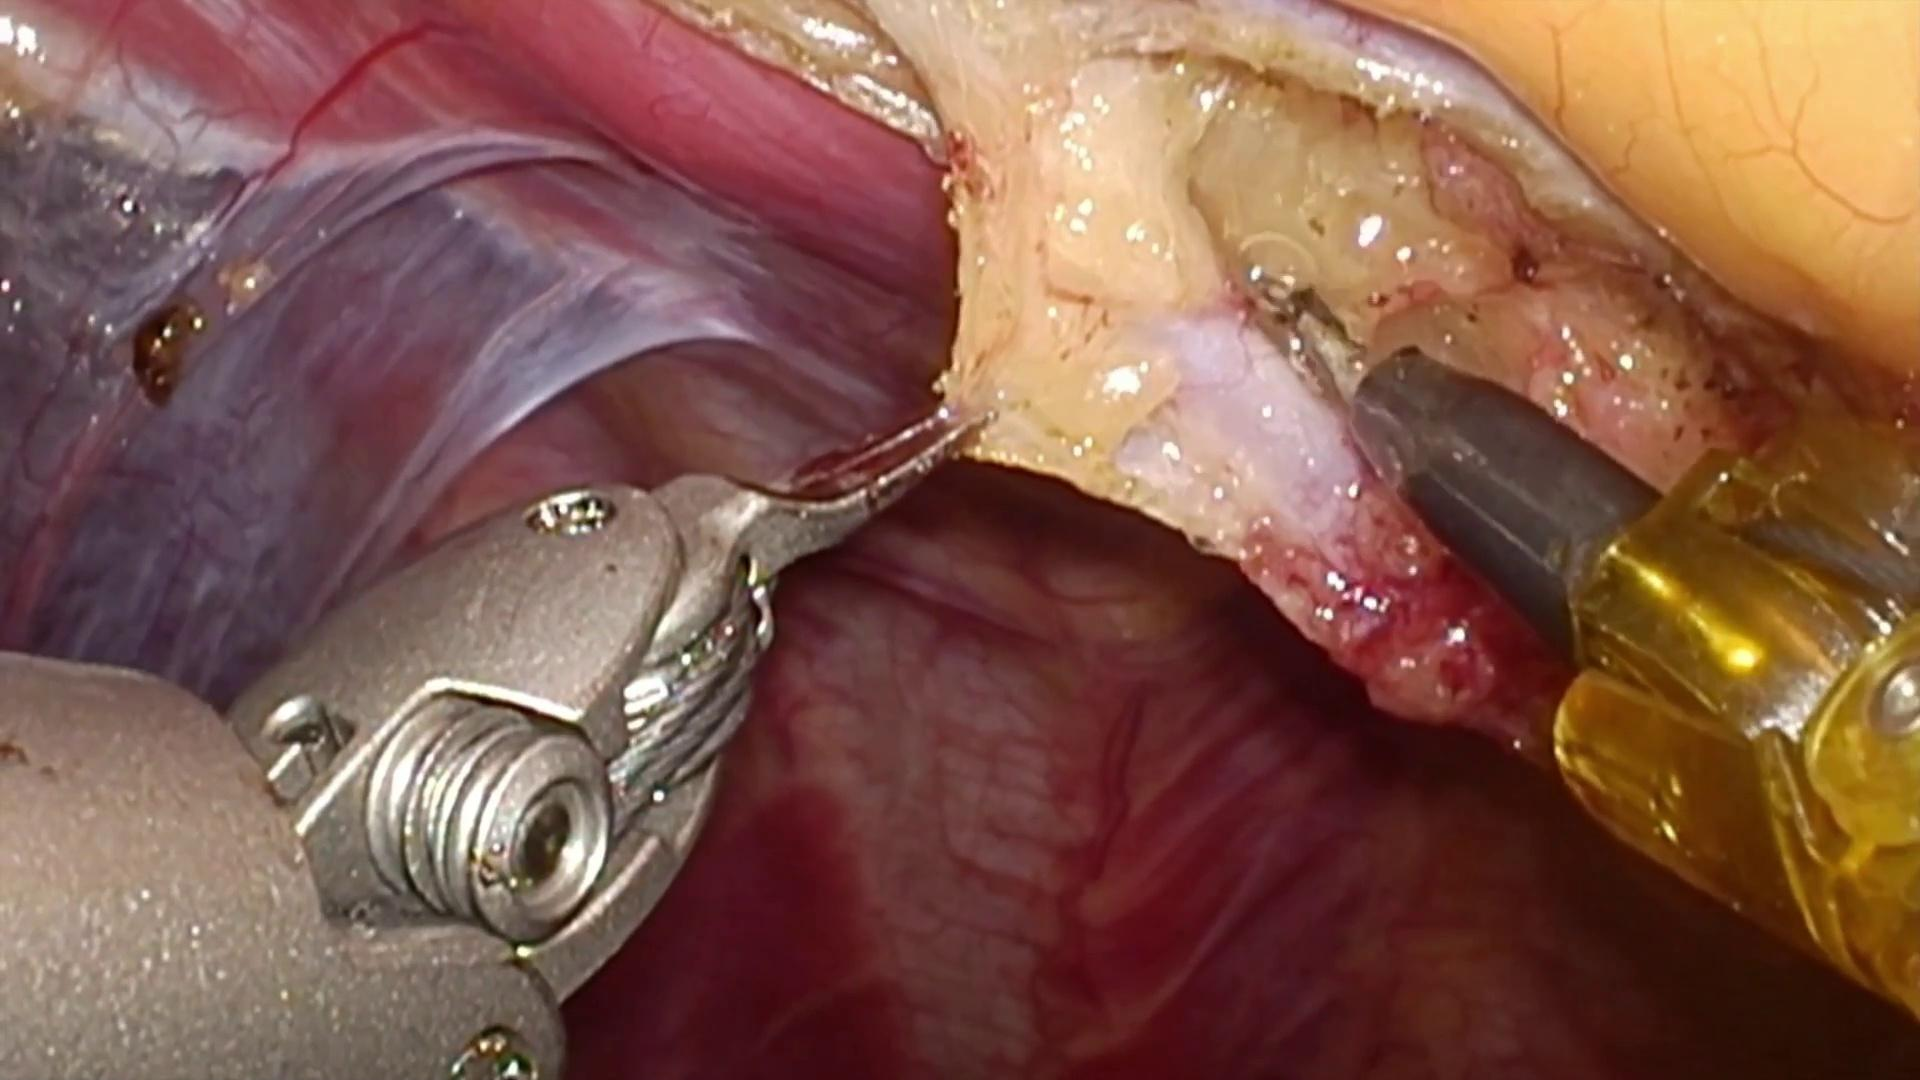Cautery_Spatula: (1261, 270, 1660, 662)
Debakey: (655, 393, 1029, 588)
